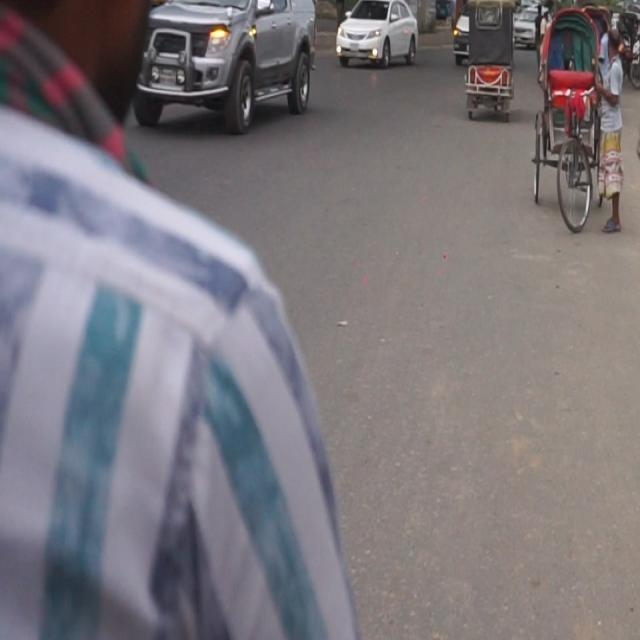car: (311, 0, 434, 88)
